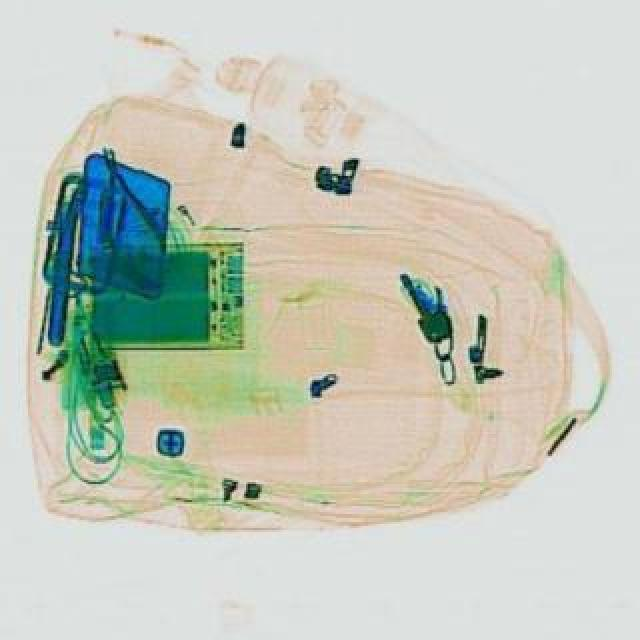wrench: (76, 136, 168, 266)
